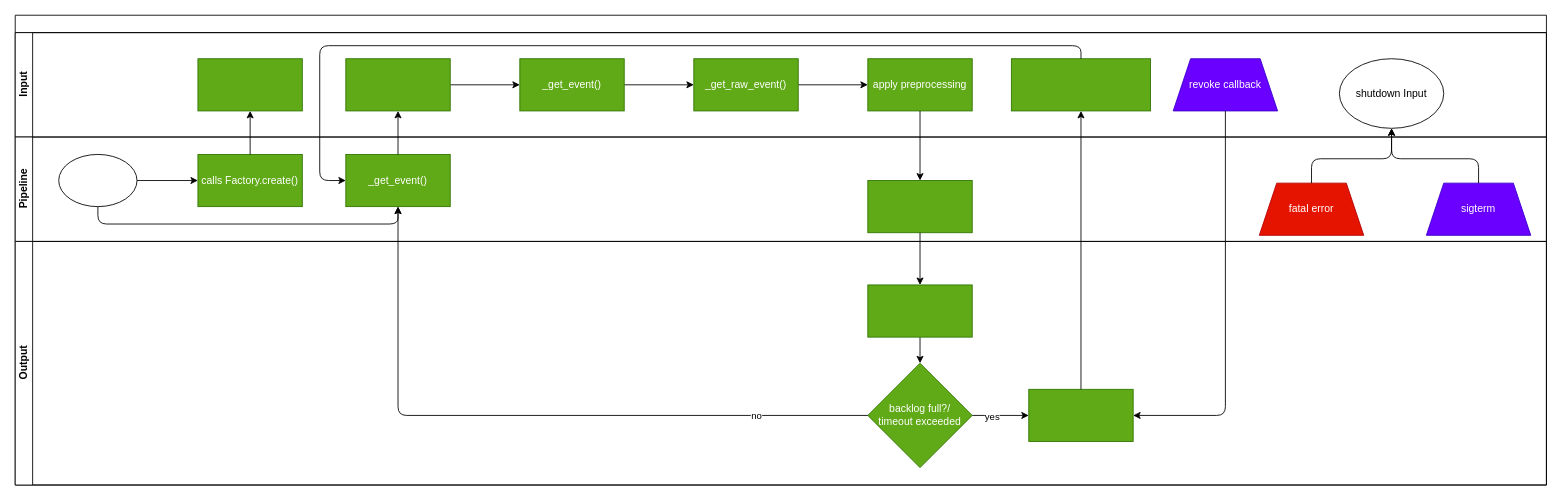
Image size: 1562x500. Some labels were removed from this diagram. Each missing label, with the centre of its shape:
__init__(): pixel 249 84
_setup(): pixel 97 180
batch_finished_callback(): pixel 1081 84
get_next(): pixel 397 84
processing event: pixel 919 206
store(): pixel 919 310
write backlog: pixel 1080 415
